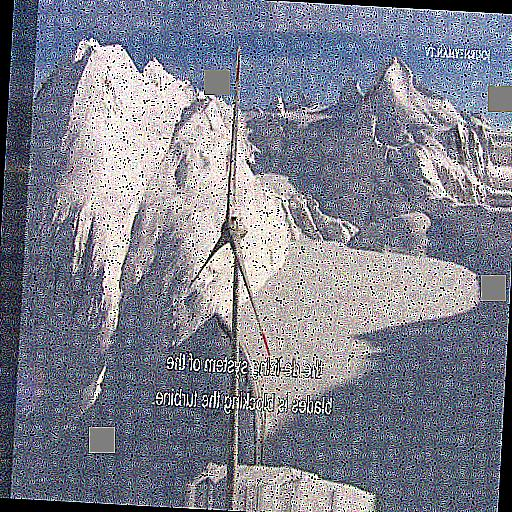wind turbine: (182, 45, 270, 491)
